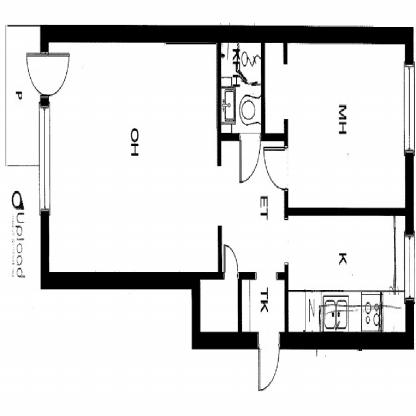door: (26, 51, 71, 96), (258, 330, 280, 395), (262, 145, 288, 193), (239, 129, 260, 188), (222, 242, 239, 274)
window: (39, 103, 50, 213), (404, 233, 415, 300), (404, 63, 412, 153)
zone: (49, 41, 404, 331), (265, 38, 406, 210), (6, 25, 40, 166), (219, 39, 260, 133)
